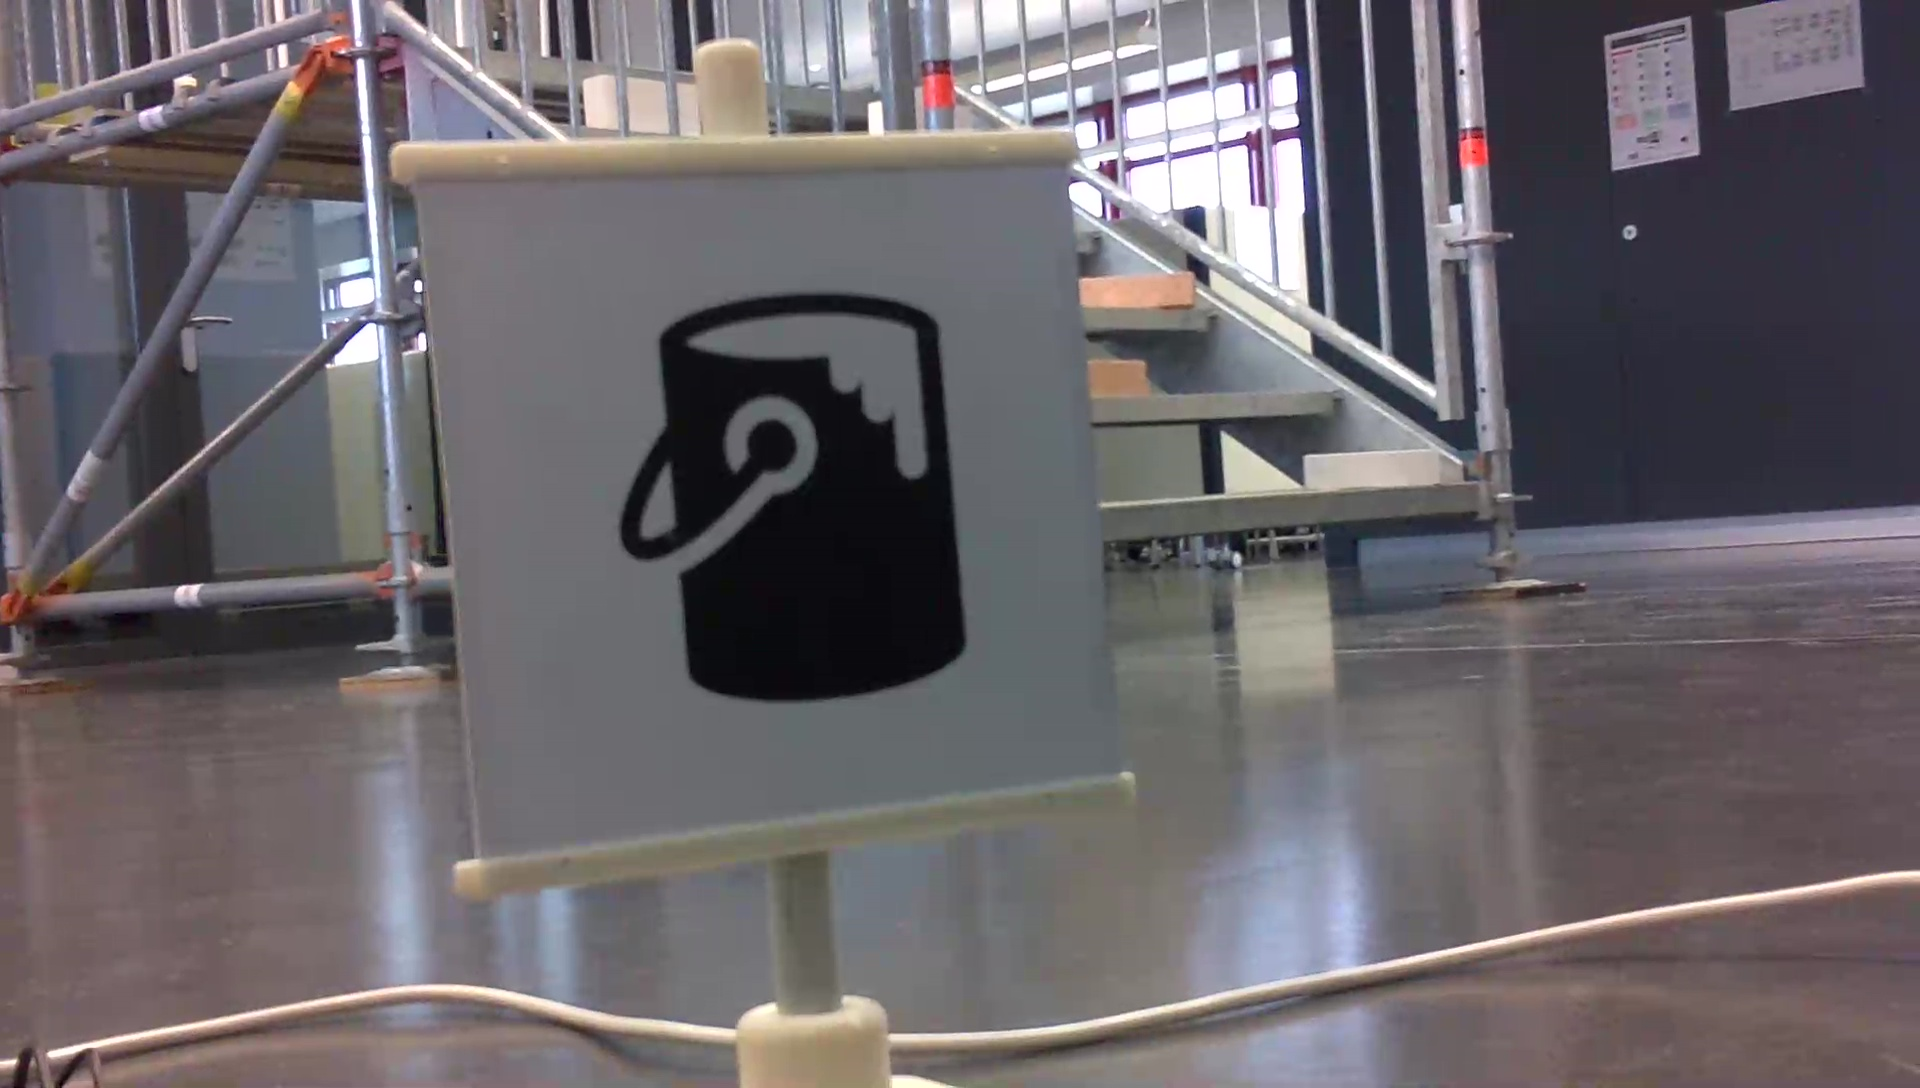brick: (1304, 446, 1437, 487), (1077, 273, 1191, 305), (1087, 363, 1142, 393)
bucket: (603, 282, 982, 717)
edge: (1106, 485, 1477, 538), (1091, 394, 1350, 419), (1075, 305, 1222, 330)
